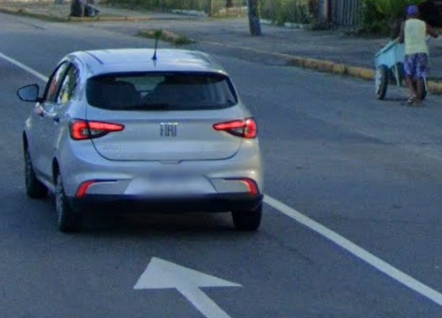car: (13, 29, 274, 241)
